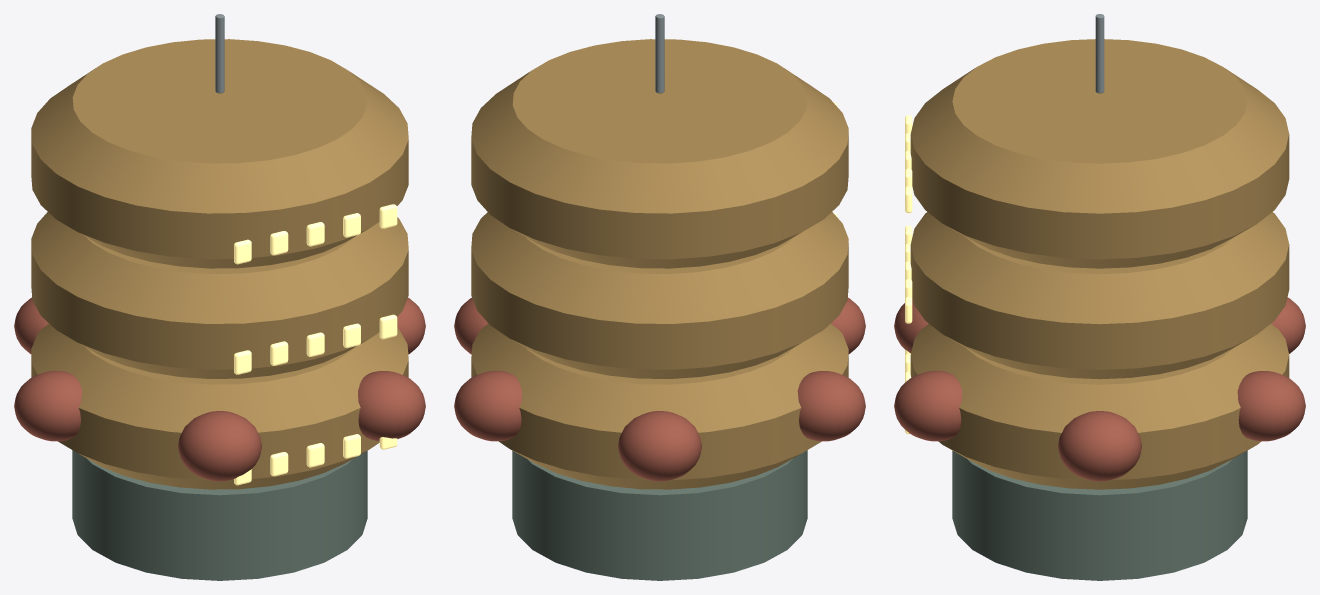
3 views of the same model, side by side, from view 1: azimuth 30°, elevation 25°; view 2: azimuth 150°, elevation 25°; view 3: azimuth 270°, elevation 25° (orthographic).
Parts seen in each view (by area): view 1: Stacked residential saucer.002, Stacked residential saucer.001, Stacked residential saucer, Foundation drum, Defence side pod.004, Defence side pod.003, Defence side pod.005, Defence side pod.002, Defence side pod, Aerial stem; view 2: Stacked residential saucer.002, Stacked residential saucer.001, Stacked residential saucer, Foundation drum, Defence side pod.002, Defence side pod.001, Defence side pod.003, Defence side pod, Defence side pod.004, Aerial stem; view 3: Stacked residential saucer.002, Stacked residential saucer.001, Stacked residential saucer, Foundation drum, Defence side pod, Defence side pod.001, Defence side pod.005, Defence side pod.002, Defence side pod.004, Aerial stem.
Boxes of the visible parts, left/top/right/bottom form: Stacked residential saucer.002: left=31, top=39, right=408, bottom=268; Stacked residential saucer.001: left=31, top=212, right=408, bottom=378; Stacked residential saucer: left=31, top=323, right=408, bottom=489; Foundation drum: left=72, top=450, right=367, bottom=580; Defence side pod.004: left=178, top=411, right=261, bottom=481; Defence side pod.003: left=14, top=371, right=82, bottom=441; Defence side pod.005: left=358, top=371, right=425, bottom=441; Defence side pod.002: left=14, top=297, right=48, bottom=353; Defence side pod: left=397, top=297, right=425, bottom=354; Aerial stem: left=215, top=14, right=224, bottom=93; Stacked residential saucer.002: left=471, top=39, right=848, bottom=268; Stacked residential saucer.001: left=471, top=212, right=848, bottom=378; Stacked residential saucer: left=471, top=323, right=848, bottom=489; Foundation drum: left=512, top=450, right=807, bottom=580; Defence side pod.002: left=618, top=411, right=701, bottom=481; Defence side pod.001: left=454, top=371, right=521, bottom=441; Defence side pod.003: left=797, top=371, right=865, bottom=441; Defence side pod: left=454, top=297, right=488, bottom=354; Defence side pod.004: left=831, top=297, right=865, bottom=353; Aerial stem: left=655, top=14, right=664, bottom=93; Stacked residential saucer.002: left=910, top=39, right=1289, bottom=268; Stacked residential saucer.001: left=910, top=212, right=1289, bottom=379; Stacked residential saucer: left=910, top=324, right=1289, bottom=489; Foundation drum: left=952, top=450, right=1247, bottom=580; Defence side pod: left=1058, top=411, right=1141, bottom=481; Defence side pod.001: left=1237, top=371, right=1305, bottom=441; Defence side pod.005: left=894, top=371, right=962, bottom=441; Defence side pod.002: left=1271, top=297, right=1305, bottom=353; Defence side pod.004: left=894, top=297, right=928, bottom=353; Aerial stem: left=1095, top=14, right=1104, bottom=93.
Bounding box in the file's own units: 2.2 × 2.64 × 1.96.
